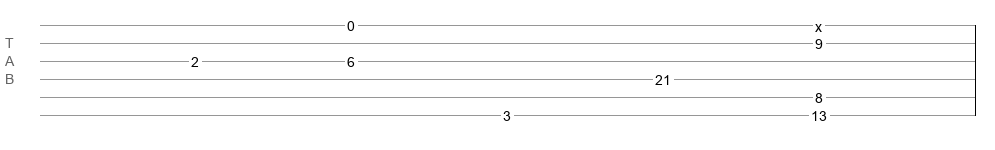0: (347, 18, 355, 28)
13: (811, 108, 827, 118)
2: (191, 54, 199, 64)
21: (655, 72, 671, 82)
3: (503, 108, 511, 118)
6: (347, 54, 355, 64)
8: (815, 90, 823, 100)
9: (815, 36, 823, 46)
x: (815, 19, 822, 27)
